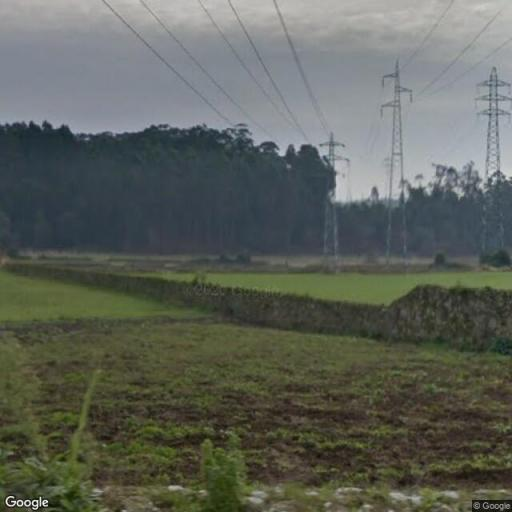ss_3: (473, 63, 511, 258), (314, 129, 350, 273)
ss_4: (380, 58, 415, 268)
